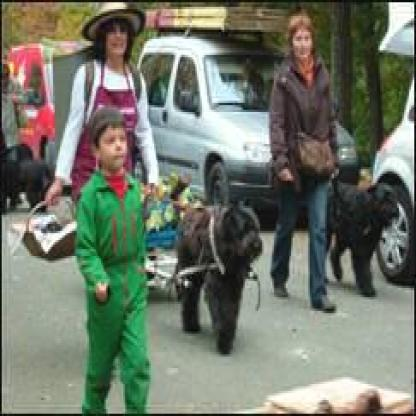Bouvier_des_Flandres: (169, 195, 266, 358), (322, 172, 399, 298)
